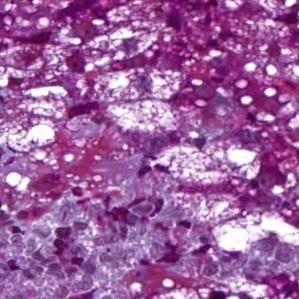ballooning: (107, 97, 183, 141), (216, 145, 265, 187)
